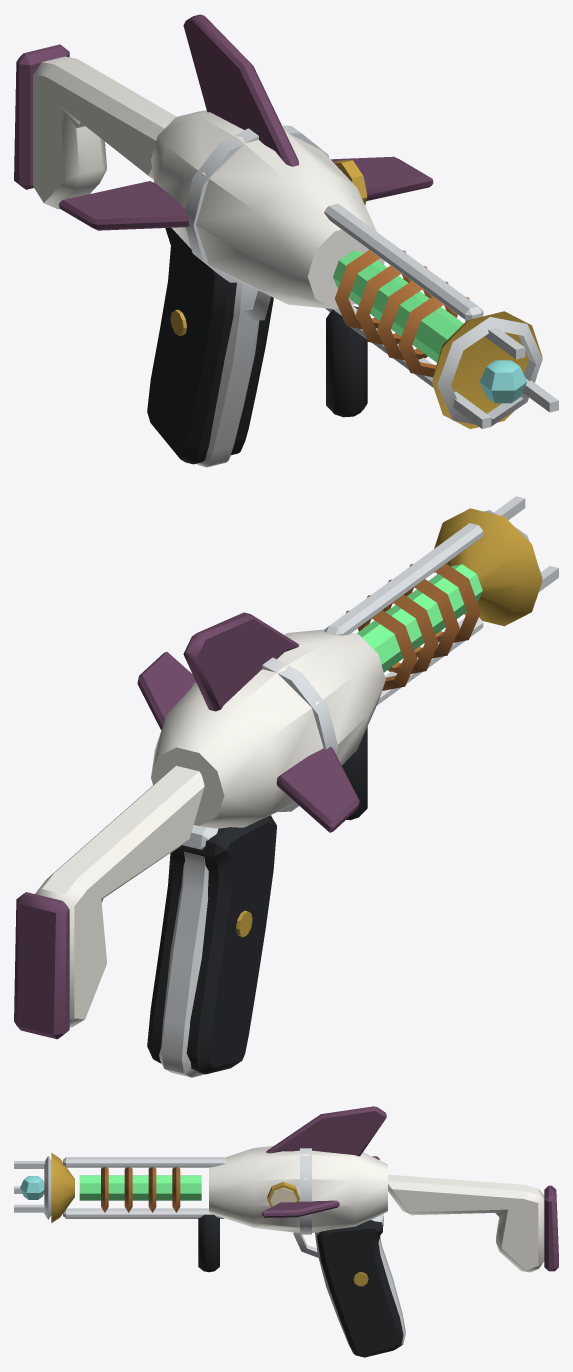
The model's file is Weapon_ArcRifle.fbx.
The picture shows the model from 3 angles, top to bottom: view 1: azimuth 30°, elevation 25°; view 2: azimuth 150°, elevation 25°; view 3: azimuth 270°, elevation 25°; orthographic projection. The views are drawn at different scales.
Parts seen in each view (by area): view 1: ArcRifle, Core; view 2: ArcRifle, Core; view 3: ArcRifle, Core.
Boxes of the visible parts, bbox=[...] form: ArcRifle: bbox=[14, 14, 558, 467]; Core: bbox=[333, 250, 526, 403]; ArcRifle: bbox=[14, 496, 558, 1077]; Core: bbox=[357, 564, 482, 672]; ArcRifle: bbox=[14, 1106, 558, 1357]; Core: bbox=[20, 1175, 201, 1200].
Size of the model in its own units: 1.19 by 1.83 by 3.66.
